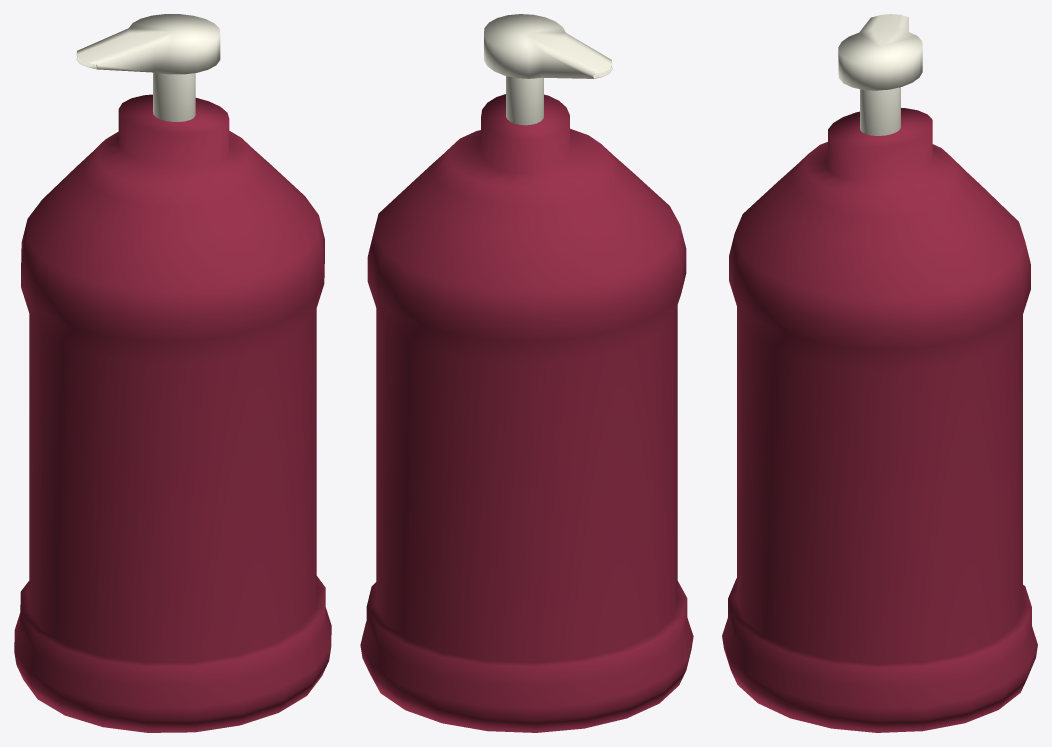
File: Bottle2.fbx
3 views of the same model, side by side, from view 1: azimuth 30°, elevation 25°; view 2: azimuth 150°, elevation 25°; view 3: azimuth 270°, elevation 25° (orthographic). The views are drawn at different scales.
Parts seen in each view (by area): view 1: pCylinder11, pCylinder13, pCylinder12; view 2: pCylinder11, pCylinder13, pCylinder12; view 3: pCylinder11, pCylinder13, pCylinder12.
Part boxes in pixels (x1,y1,x2,y2): pCylinder11: (14, 94, 331, 732); pCylinder13: (76, 14, 220, 74); pCylinder12: (153, 72, 195, 121); pCylinder11: (360, 94, 693, 732); pCylinder13: (484, 14, 612, 78); pCylinder12: (506, 76, 543, 125); pCylinder11: (722, 108, 1037, 732); pCylinder13: (838, 14, 922, 90); pCylinder12: (860, 87, 900, 135).
Bounding box in the file's own units: 16.7 × 35.7 × 16.41.
